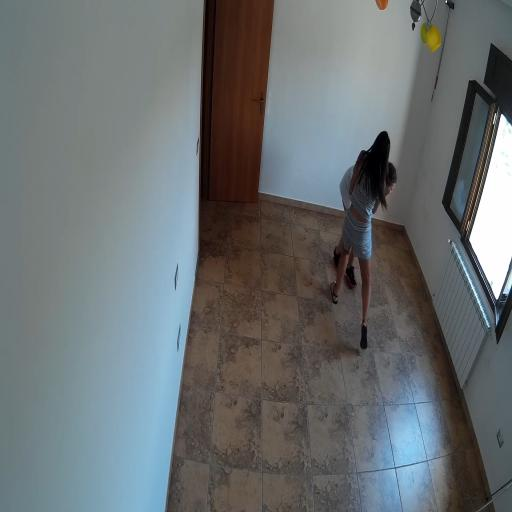violencia: (322, 100, 408, 358)
